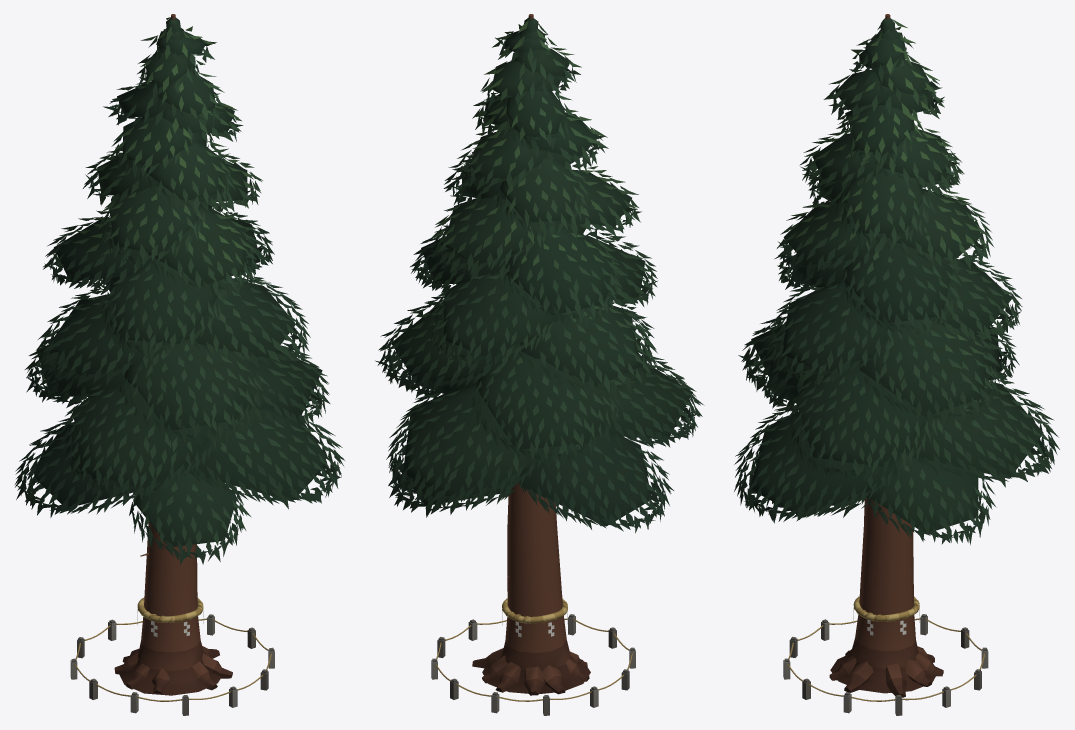
The model's file is shinboku.glb.
3 renders of one model, left to right at view 1: azimuth 30°, elevation 25°; view 2: azimuth 150°, elevation 25°; view 3: azimuth 270°, elevation 25°, orthographic.
Visible parts, largest first — view 1: foliage, trunk, rope; view 2: foliage, trunk, rope; view 3: foliage, trunk, rope.
Boxes of the visible parts, left/top/right/bottom form: foliage: left=15, top=17, right=344, bottom=564; trunk: left=114, top=14, right=232, bottom=695; rope: left=70, top=598, right=274, bottom=715; foliage: left=375, top=17, right=704, bottom=533; trunk: left=472, top=14, right=590, bottom=695; rope: left=431, top=598, right=635, bottom=715; foliage: left=734, top=18, right=1059, bottom=545; trunk: left=829, top=14, right=943, bottom=697; rope: left=783, top=596, right=988, bottom=715.
Size of what is drawn, in the model's own units: 10.57 by 24.01 by 10.82.
